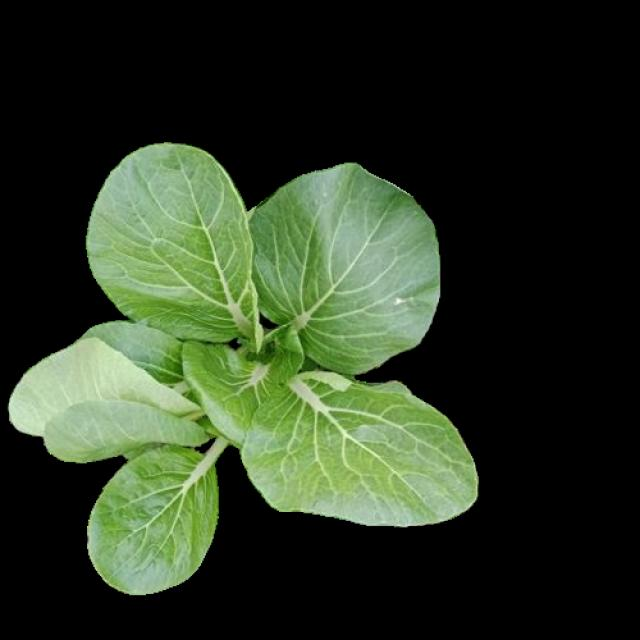not-mature: (15, 146, 478, 591)
unhealthy: (247, 162, 438, 372)
